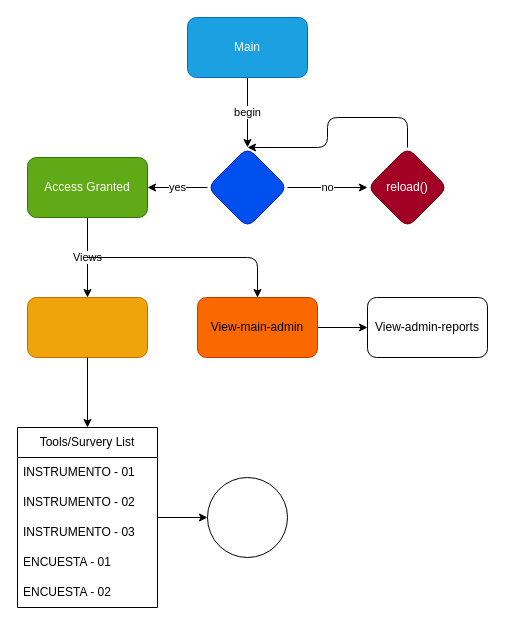
Image size: 505x625. Some labels were removed from this diagram. Each missing label, with the centre of its shape:
Login: pixel 247 187
View-main-user: pixel 87 327
View-reports: pixel 247 517
